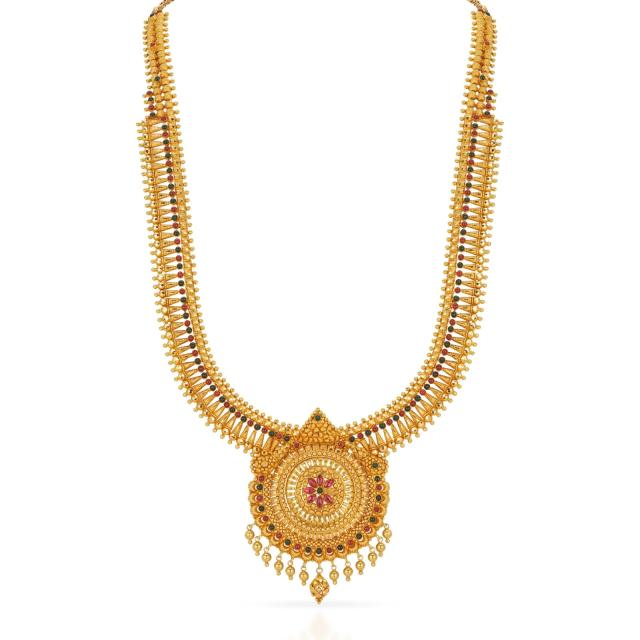missing gem: (324, 488, 338, 495), (261, 460, 268, 467)
